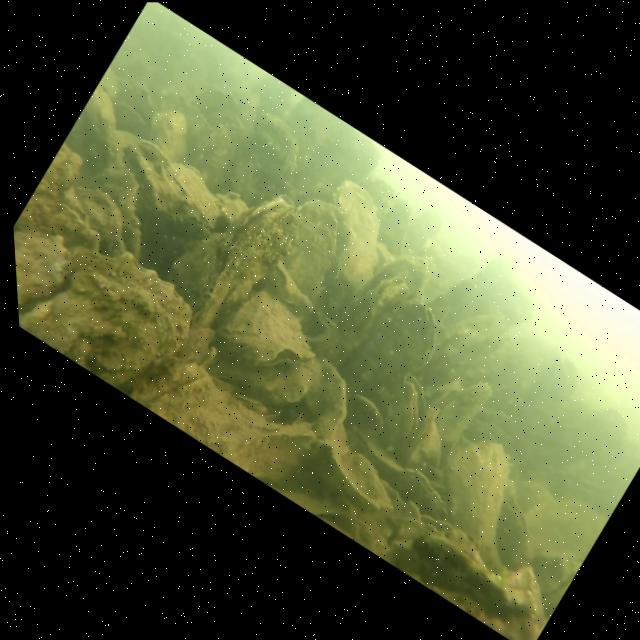Oyster-Closed: (13, 222, 209, 407), (172, 179, 319, 349), (249, 187, 369, 312), (345, 292, 459, 417), (331, 425, 461, 527), (110, 132, 228, 232), (415, 364, 502, 463), (59, 83, 146, 173), (226, 385, 272, 421)
Oyster-Indeterminate: (404, 420, 560, 575), (381, 513, 554, 640), (211, 105, 327, 223), (298, 417, 420, 525), (62, 156, 176, 262), (45, 178, 146, 272), (13, 211, 86, 335), (176, 103, 262, 192), (132, 97, 210, 171), (365, 241, 440, 312)
Oyster-Open: (289, 169, 415, 295), (205, 279, 333, 398), (311, 259, 419, 384), (361, 370, 451, 464), (473, 491, 552, 570)
